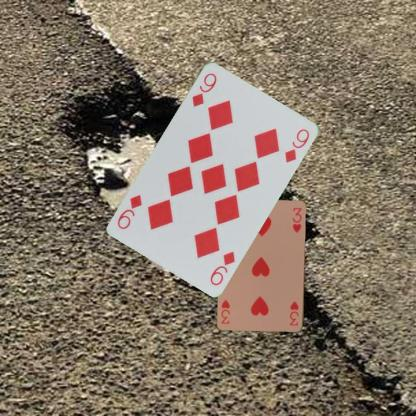3h: (287, 299, 300, 327)
9d: (189, 69, 218, 108), (207, 248, 236, 286)
